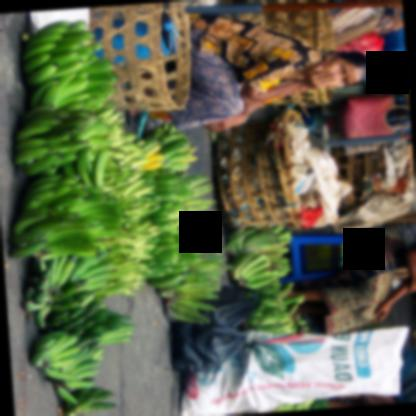handbag: (341, 95, 408, 138)
